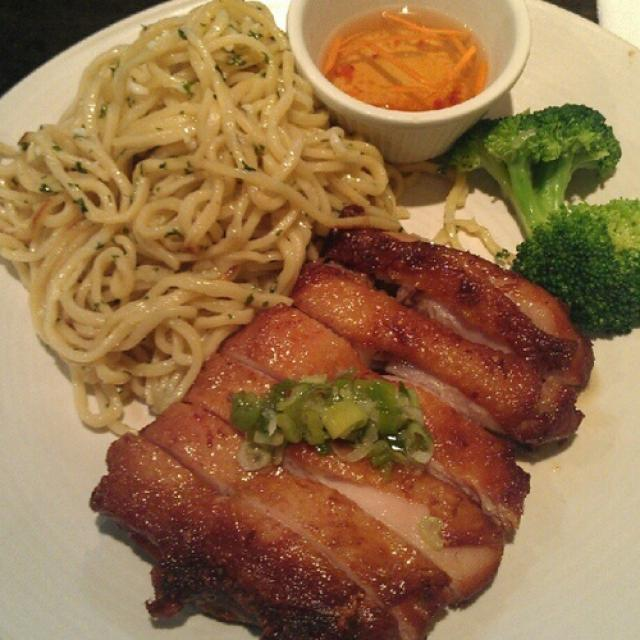面条主食: (4, 3, 627, 618)
